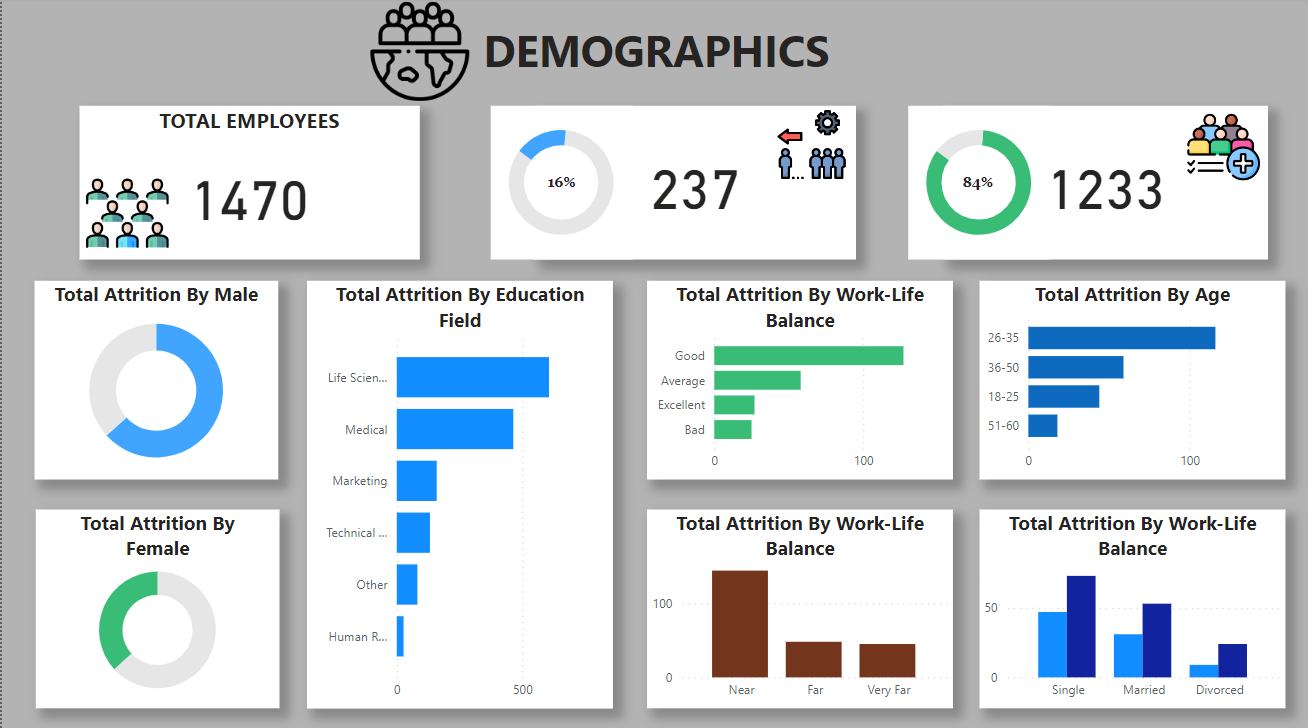

The page's visual inventory and layout, read from the dashboard file:
{"tool":"powerbi","page":{"name":"Demographics","canvas":[1280,720],"ordinal":1},"visuals":[{"type":"textbox","box":[0,0,1279.9,106.3],"z":0},{"type":"image","box":[338.6,0,139.4,106.3],"z":1000},{"type":"card","title":"TOTAL EMPLOYEES","fields":{"Values":["Sum(HR-Employee-Attrition.EmployeeCount)"]},"box":[75.8,106.3,332.5,150.4],"z":2000},{"type":"card","title":"TOTAL EMPLOYEES","fields":{"Values":["Sum(HR-Employee-Attrition.Attrition Count)"]},"box":[520.7,106.3,314.2,150.4],"z":4000},{"type":"card","title":"TOTAL EMPLOYEES","fields":{"Values":["Min(HR-Employee-Attrition.AE)"]},"box":[920.5,106.3,317.8,150.4],"z":5000},{"type":"donutChart","fields":{"Category":["HR-Employee-Attrition.Attrition"],"Y":["Sum(HR-Employee-Attrition.EmployeeCount)"]},"box":[478,106.3,138.1,150.4],"z":6000},{"type":"textbox","box":[523.2,166.2,47.7,35.4],"z":7000},{"type":"donutChart","fields":{"Category":["HR-Employee-Attrition.Attrition"],"Y":["Sum(HR-Employee-Attrition.EmployeeCount)"]},"box":[886.2,106.3,138.1,150.4],"z":8000},{"type":"textbox","box":[930.3,166.2,47.7,31.8],"z":9000},{"type":"clusteredBarChart","title":"Total Attrition By Education Field","fields":{"Category":["HR-Employee-Attrition.EducationField"],"Y":["CountNonNull(HR-Employee-Attrition.Attrition)"],"Series":["HR-Employee-Attrition.EmployeeCount"]},"box":[298.3,277.5,299.5,418.1],"z":10000},{"type":"clusteredBarChart","title":"Total Attrition By Work-Life Balance ","fields":{"Category":["HR-Employee-Attrition.WorkLifeBalance (groups)"],"Y":["Sum(HR-Employee-Attrition.Attrition Count)"]},"box":[630.8,277.5,299.5,194.4],"z":11000},{"type":"clusteredBarChart","title":"Total Attrition By Age","fields":{"Y":["Sum(HR-Employee-Attrition.Attrition Count)"],"Category":["HR-Employee-Attrition.Age (groups)"]},"box":[955.9,277.5,299.5,194.4],"z":12000},{"type":"columnChart","title":"Total Attrition By Work-Life Balance ","fields":{"Category":["HR-Employee-Attrition.DistanceFromHome (groups)"],"Y":["Sum(HR-Employee-Attrition.Attrition Count)"]},"box":[630.8,501.2,299.5,194.4],"z":13000},{"type":"clusteredColumnChart","title":"Total Attrition By Work-Life Balance ","fields":{"Category":["HR-Employee-Attrition.MaritalStatus"],"Y":["Sum(HR-Employee-Attrition.Attrition Count)"],"Series":["HR-Employee-Attrition.Gender"]},"box":[955.9,501.2,299.5,194.4],"z":14000},{"type":"donutChart","title":"Total Attrition By Male","fields":{"Category":["HR-Employee-Attrition.Gender"],"Y":["Sum(HR-Employee-Attrition.Attrition Count)"]},"box":[31.8,277.5,238.4,194.4],"z":15000},{"type":"donutChart","title":"Total Attrition By Female","fields":{"Y":["Sum(HR-Employee-Attrition.Attrition Count)"],"Category":["HR-Employee-Attrition.Gender"]},"box":[33,501.2,238.4,194.4],"z":16000},{"type":"image","box":[75.8,166.2,94.1,90.5],"z":16001},{"type":"image","box":[1150.3,106.3,88,80.7],"z":16002},{"type":"image","box":[748.1,103.9,86.8,80.7],"z":16003}]}

Visuals, with their boxes in screenshot pixels (x1, y1, x2, y2), scaled from the page's 1280x720 canvas onto the 1308x728 screenshot:
textbox: <box>0,0,1307,107</box>
image: <box>346,0,488,107</box>
"TOTAL EMPLOYEES" card: <box>77,107,417,260</box>
"TOTAL EMPLOYEES" card: <box>532,107,853,260</box>
"TOTAL EMPLOYEES" card: <box>941,107,1265,260</box>
donutChart - HR-Employee-Attrition.Attrition x Sum(HR-Employee-Attrition.EmployeeCount): <box>488,107,630,260</box>
textbox: <box>535,168,583,204</box>
donutChart - HR-Employee-Attrition.Attrition x Sum(HR-Employee-Attrition.EmployeeCount): <box>906,107,1047,260</box>
textbox: <box>951,168,999,200</box>
"Total Attrition By Education Field" clusteredBarChart: <box>305,281,611,703</box>
"Total Attrition By Work-Life Balance " clusteredBarChart: <box>645,281,951,477</box>
"Total Attrition By Age" clusteredBarChart: <box>977,281,1283,477</box>
"Total Attrition By Work-Life Balance " columnChart: <box>645,507,951,703</box>
"Total Attrition By Work-Life Balance " clusteredColumnChart: <box>977,507,1283,703</box>
"Total Attrition By Male" donutChart: <box>32,281,276,477</box>
"Total Attrition By Female" donutChart: <box>34,507,277,703</box>
image: <box>77,168,174,260</box>
image: <box>1175,107,1265,189</box>
image: <box>764,105,853,187</box>
